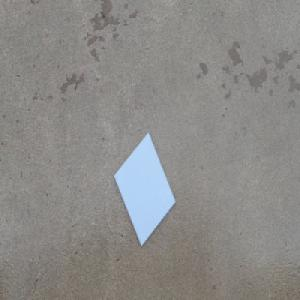PaintChip: (112, 130, 176, 248)
